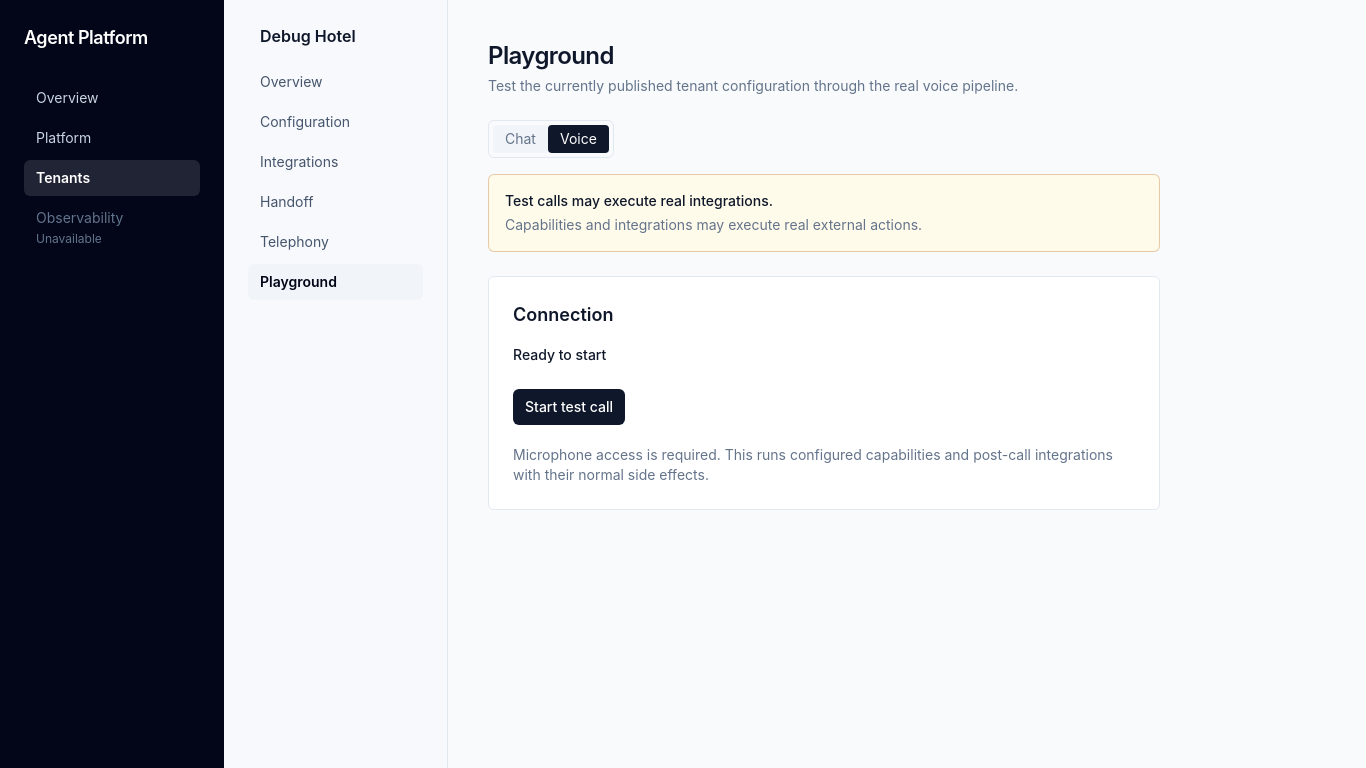
Test: Playground voice call › moves through start, connect, mute, end, and authoritative ended states
This screenshot has width=1366, height=768.
Expected: the text "Ready to start" is shown, x1=513 y1=346 x2=606 y2=363
Click the button "Start test call". click: (569, 407)
box: x1=513 y1=389 x2=625 y2=425
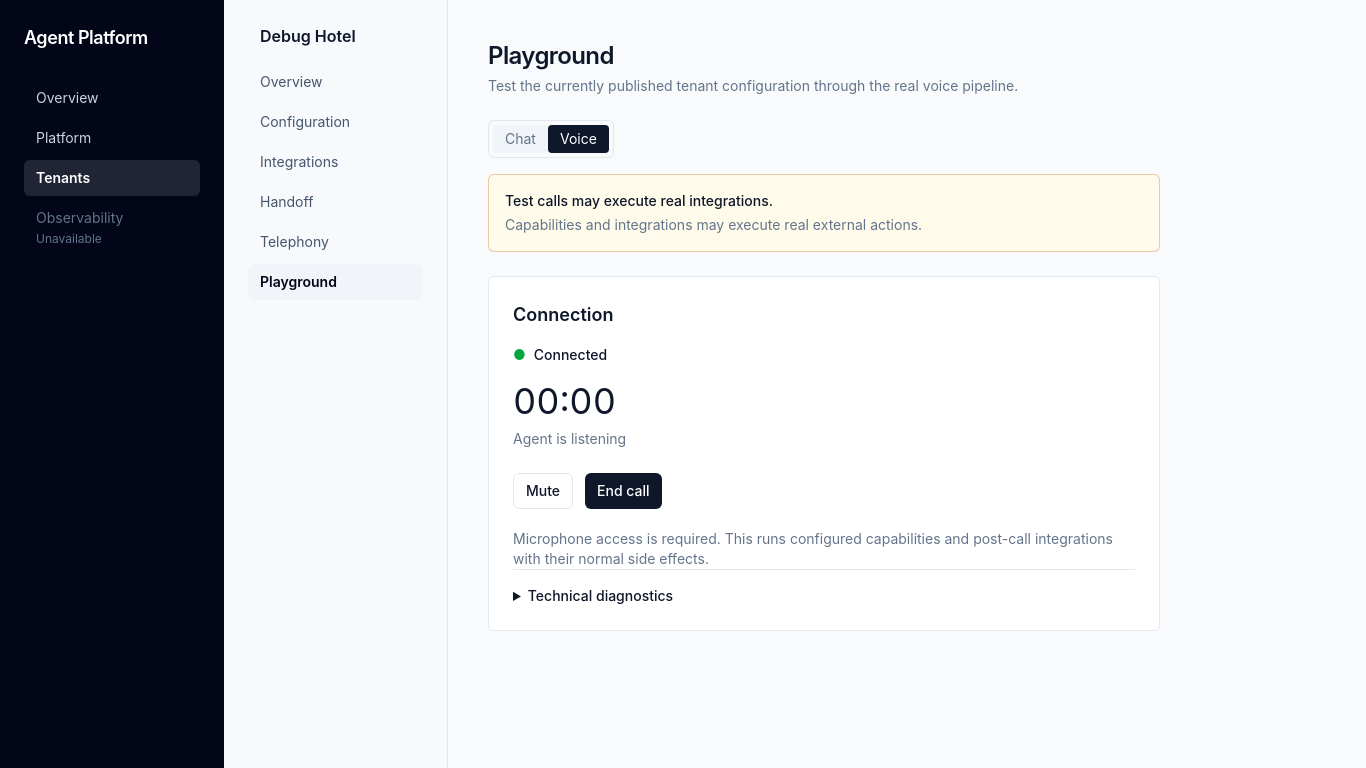
Expected: the text "Connecting" is shown, x1=513 y1=346 x2=607 y2=363
Now the text "Connected" is shown, box x1=534 y1=346 x2=607 y2=363
Now the text "Agent is listening" is shown, box x1=513 y1=430 x2=626 y2=447
Click the button "Mute". click: (543, 491)
box: x1=513 y1=473 x2=573 y2=509
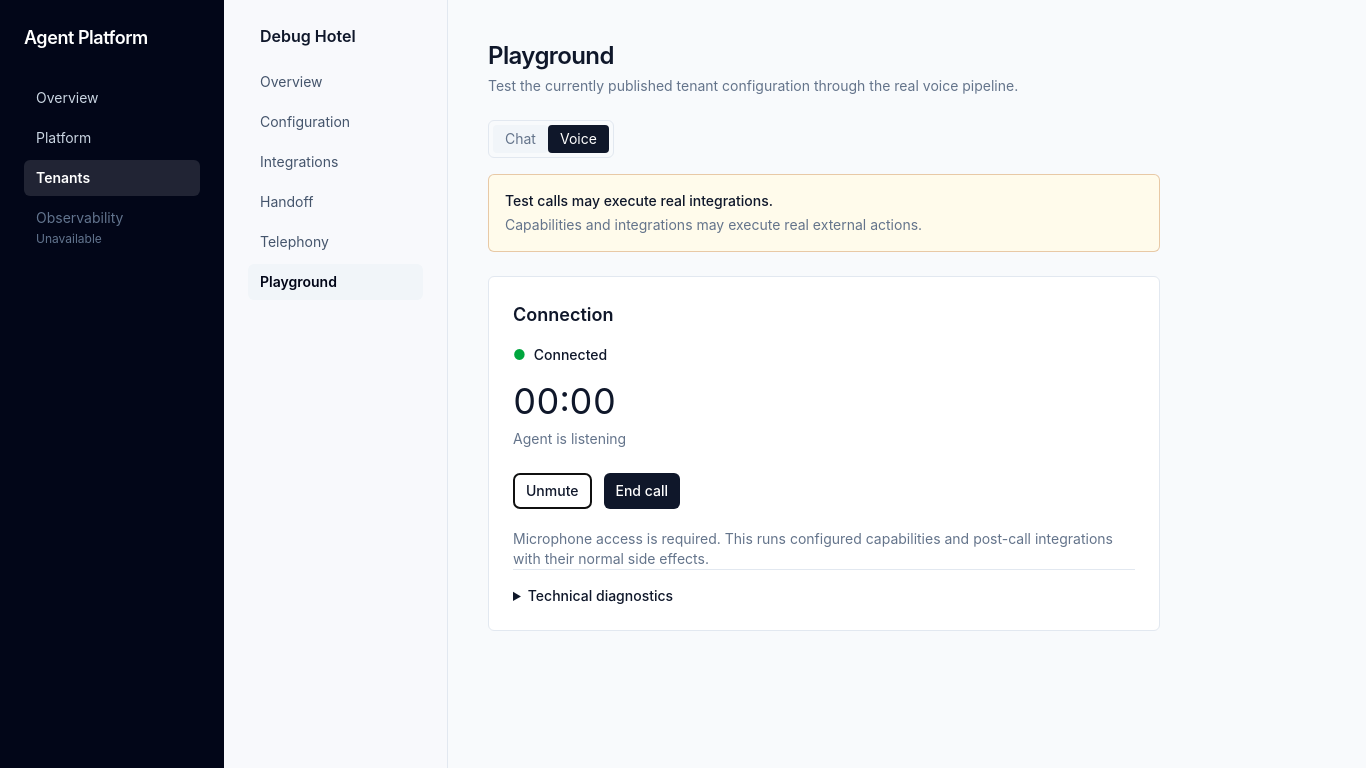
Click the button "Unmute". click: (552, 491)
box: x1=513 y1=473 x2=592 y2=509
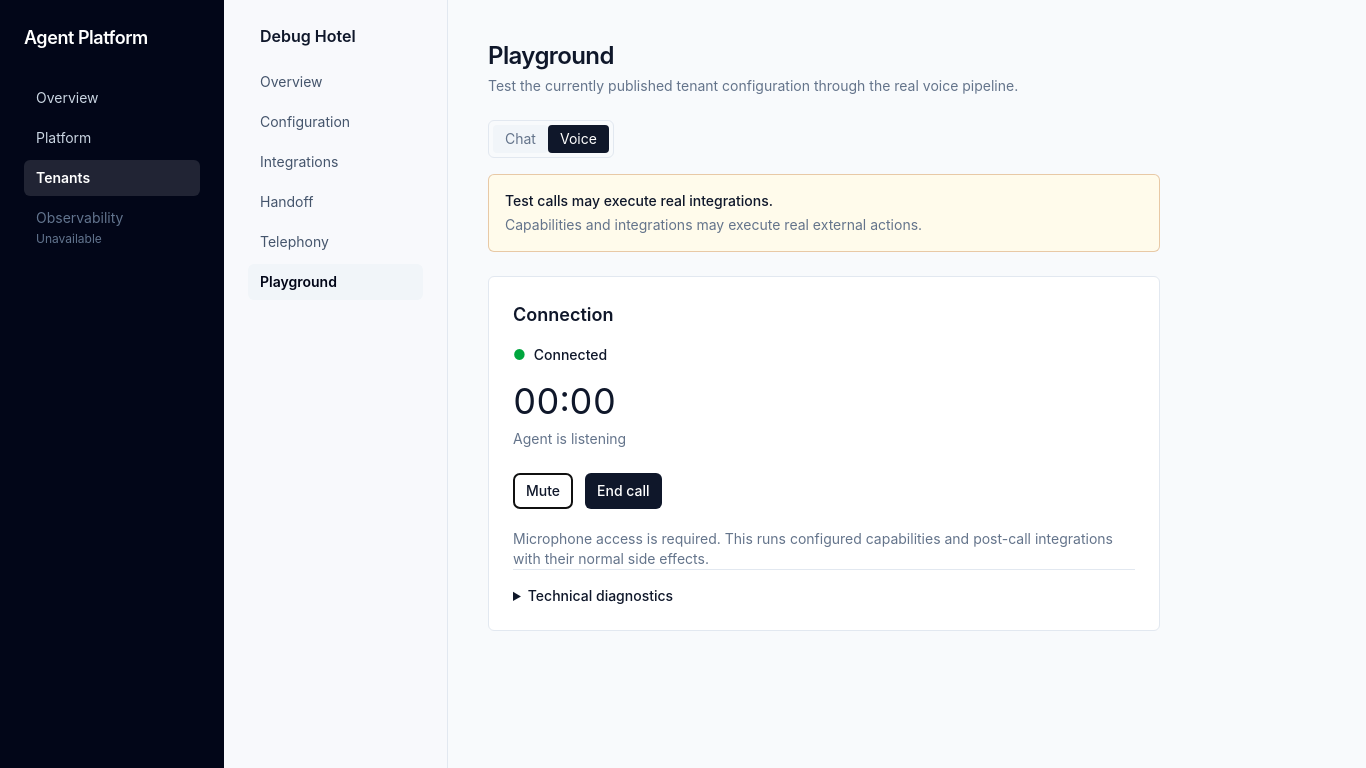
Click the button "End call". click: (623, 491)
box: x1=585 y1=473 x2=662 y2=509
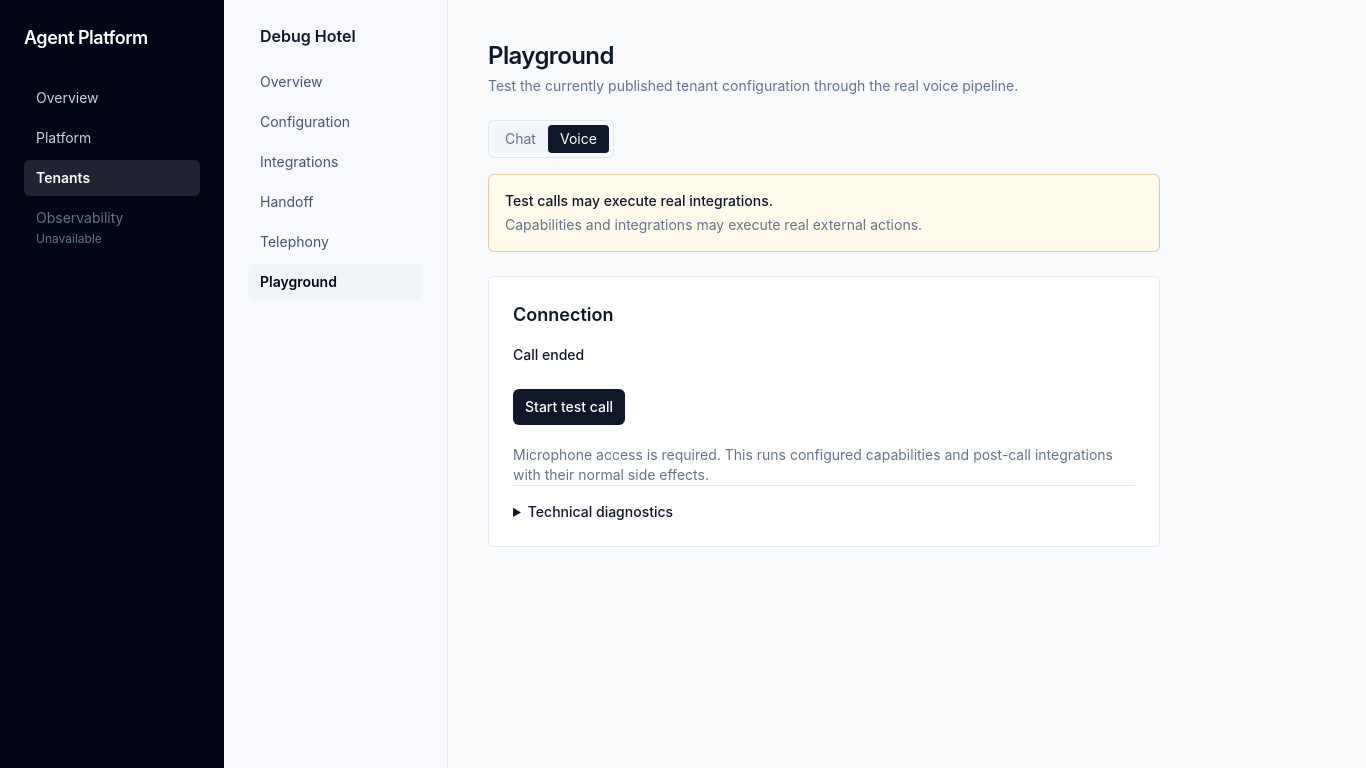
Now the text "Call ended" is shown, box x1=513 y1=346 x2=584 y2=363
Now the button "Start test call" is shown, box x1=513 y1=389 x2=625 y2=425
